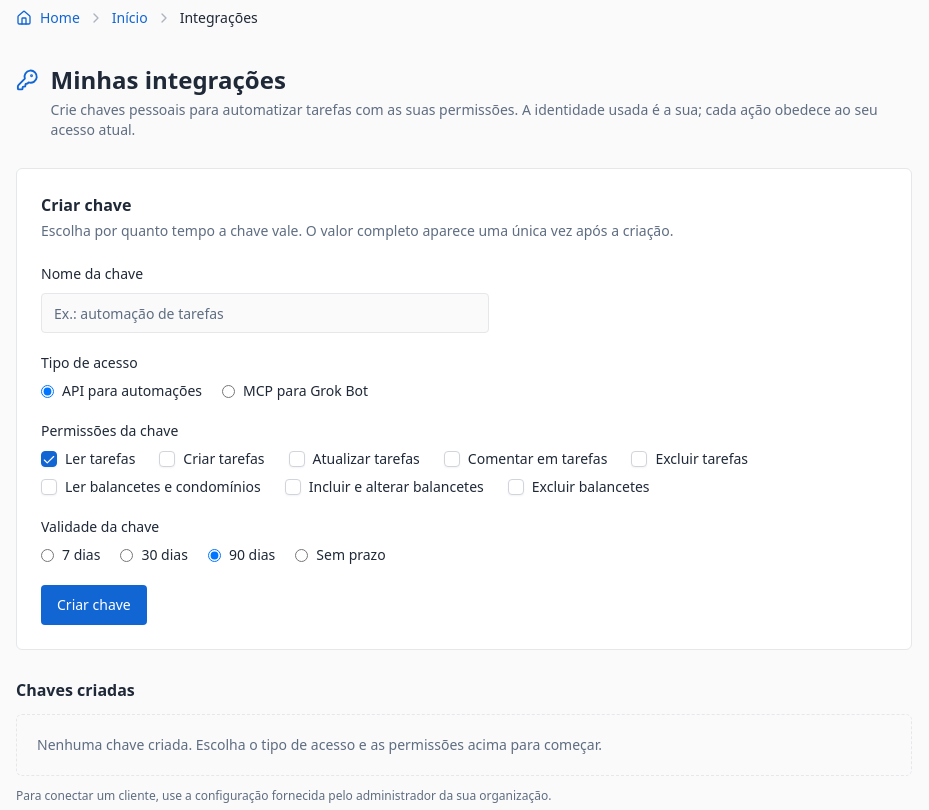
Test: personal integration keys › shows the issued secret once and clears it on dismissal
Expected: the text "Nenhuma chave" is shown, [37,735,602,754]
Step 1. Type "Robô" into the field labelled "Nome da chave" → (265,313), box [41,293,489,333]
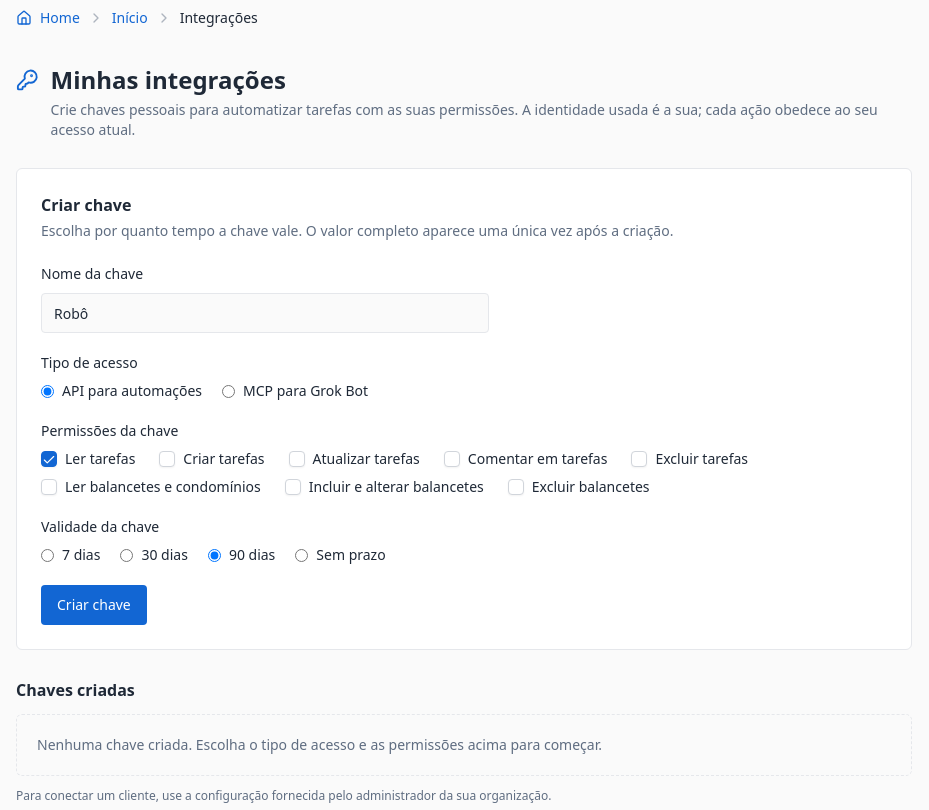
Step 2. Click the radio button labelled "MCP para Grok Bot" → (228,391), box [222,384,235,398]
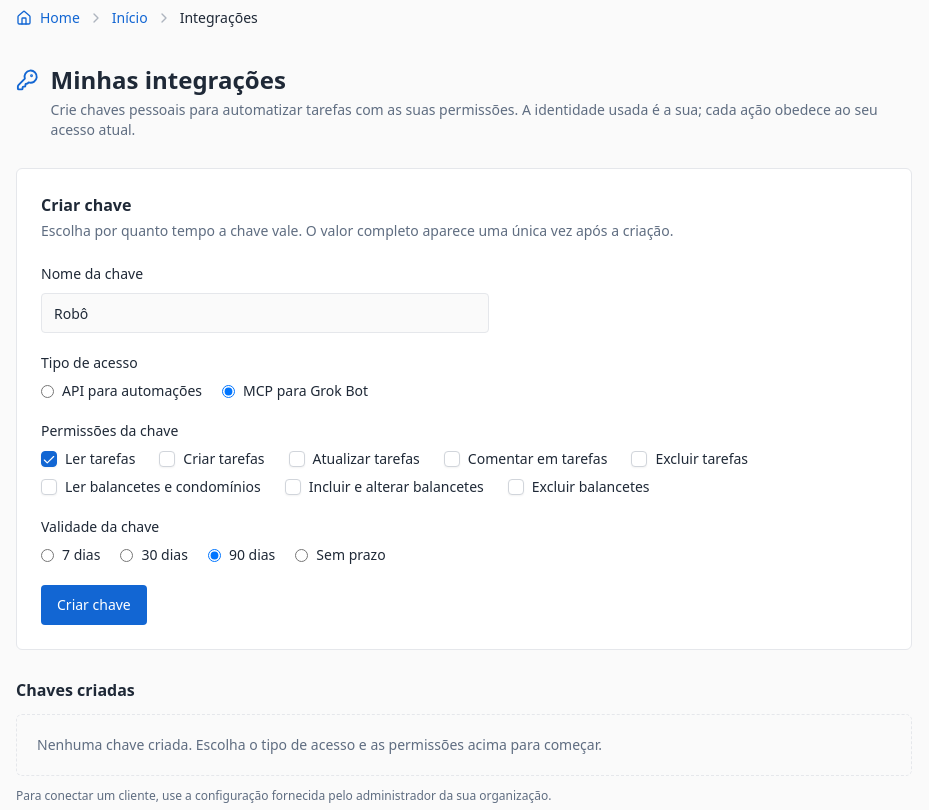
Step 3. Click the button "Criar chave" → (94,605), box [41,585,147,625]
(page scrolled)
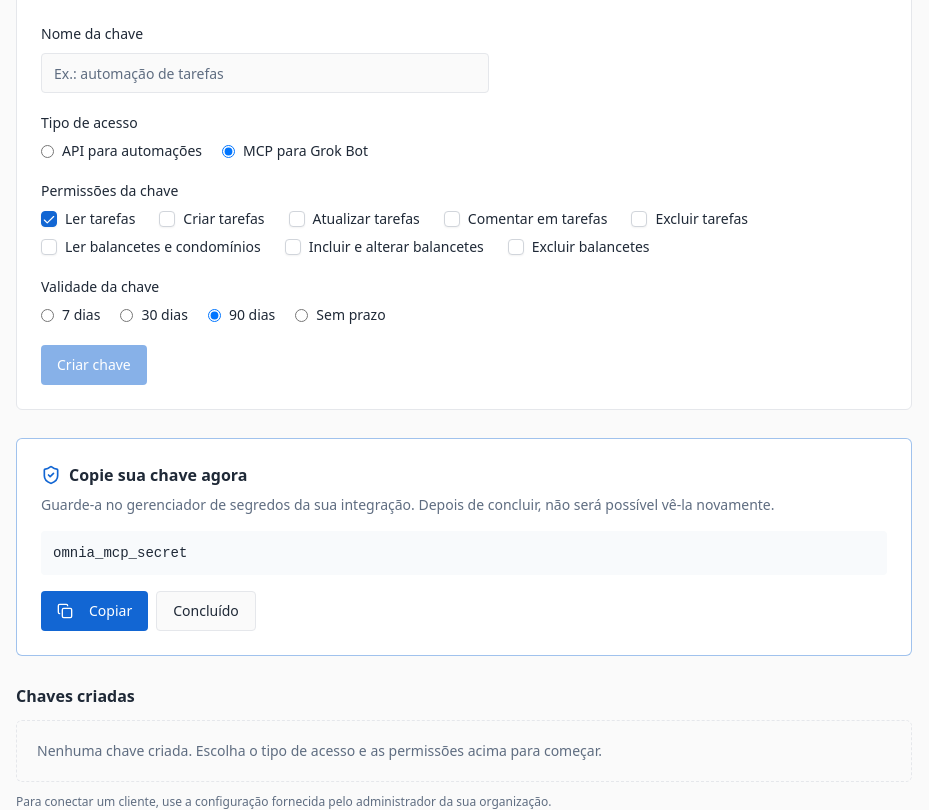
Result: the text "omnia_mcp_secret" is shown at [41,531,887,575]
Step 4. Click the button "Concluído" → (206,611), box [156,591,256,631]
(page scrolled)
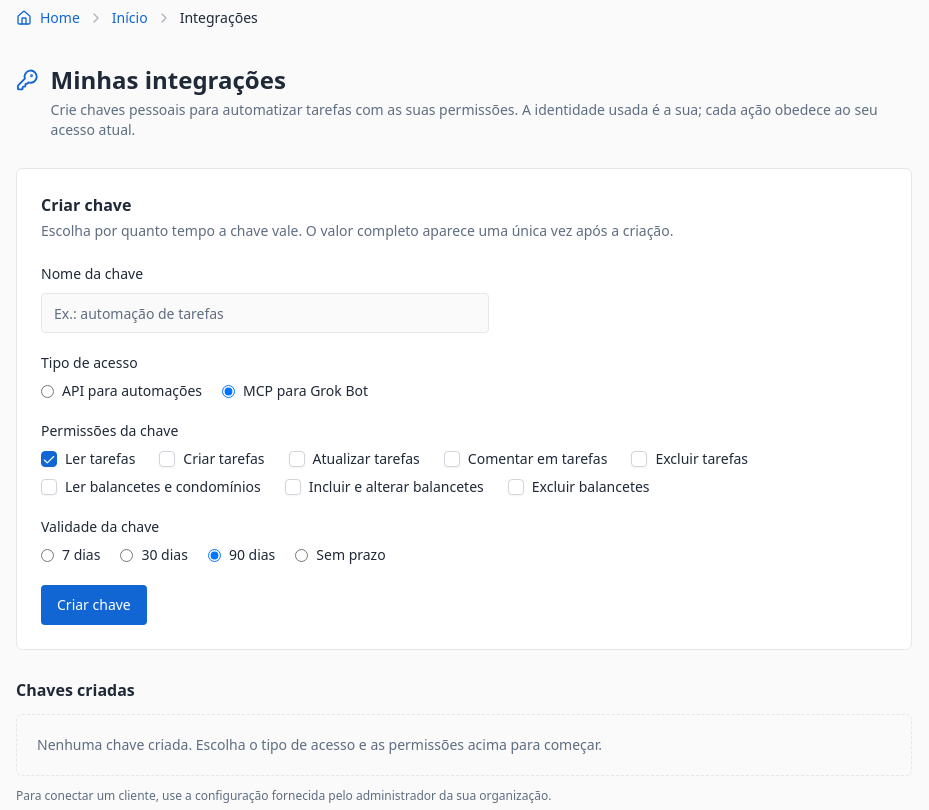
Result: the text "omnia_mcp_secret" is gone
